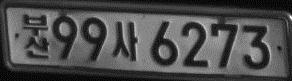2: (180, 20, 208, 68)
3: (241, 24, 269, 70)
6: (150, 19, 178, 66)
7: (210, 22, 238, 68)
9: (51, 15, 78, 60), (81, 16, 107, 61)
부산_V: (23, 13, 50, 59)
사: (111, 20, 139, 62)
